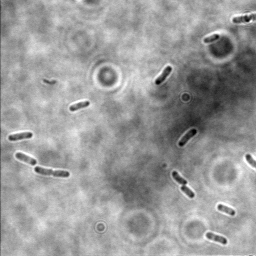Dividing: (170, 170, 195, 200), (34, 167, 70, 179)
Rod: (177, 127, 198, 148), (153, 65, 173, 87), (13, 151, 37, 167), (204, 231, 228, 246), (67, 100, 91, 113), (7, 131, 34, 142), (216, 203, 236, 217), (202, 33, 220, 45)
